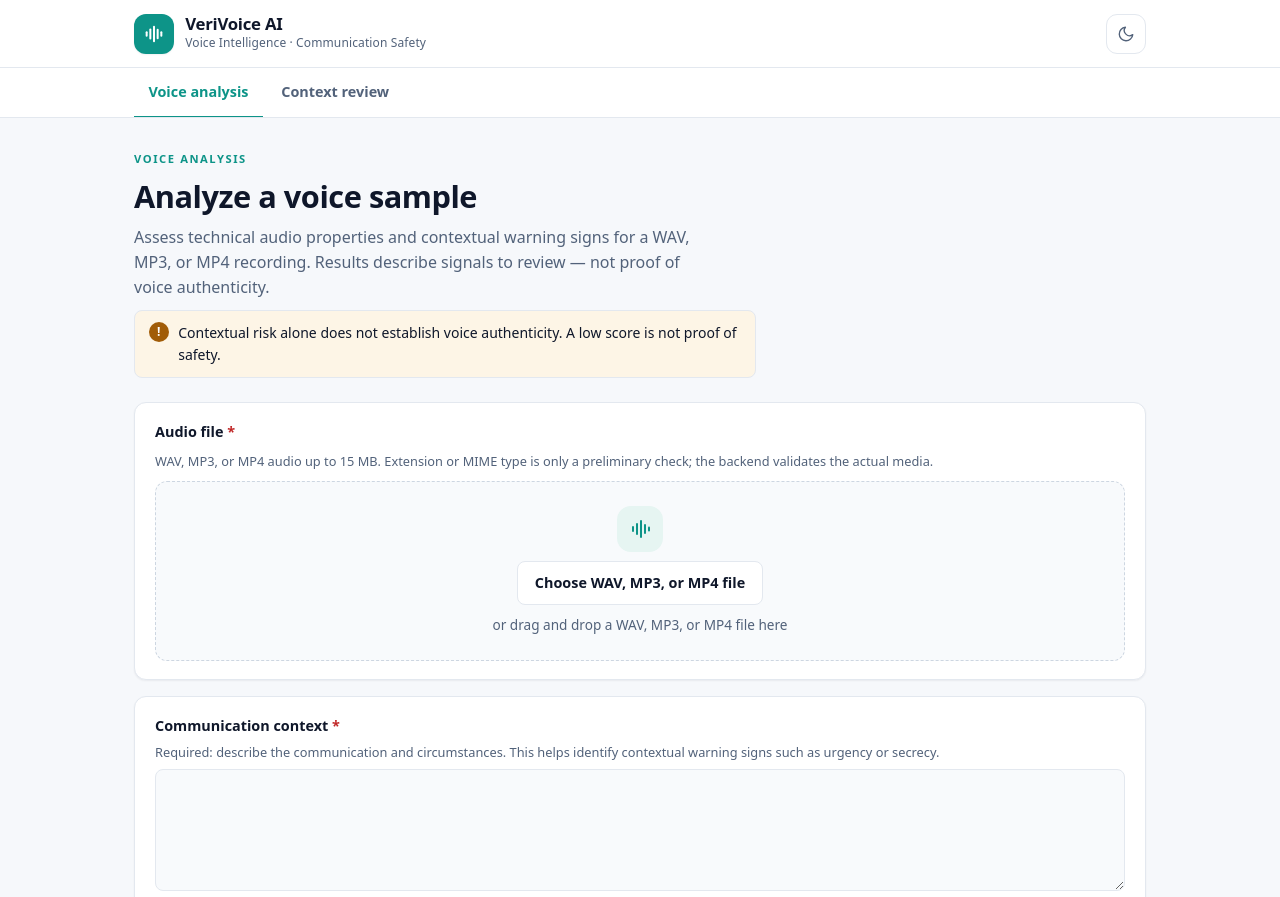
App component › shows validation error when audio is missing on submit
The width and height of the screenshot is (1280, 897).
Type "Urgent money request from CEO" into the text box labelled "Communication context *" at (640,830), box [155,769,1125,891]
(page scrolled)
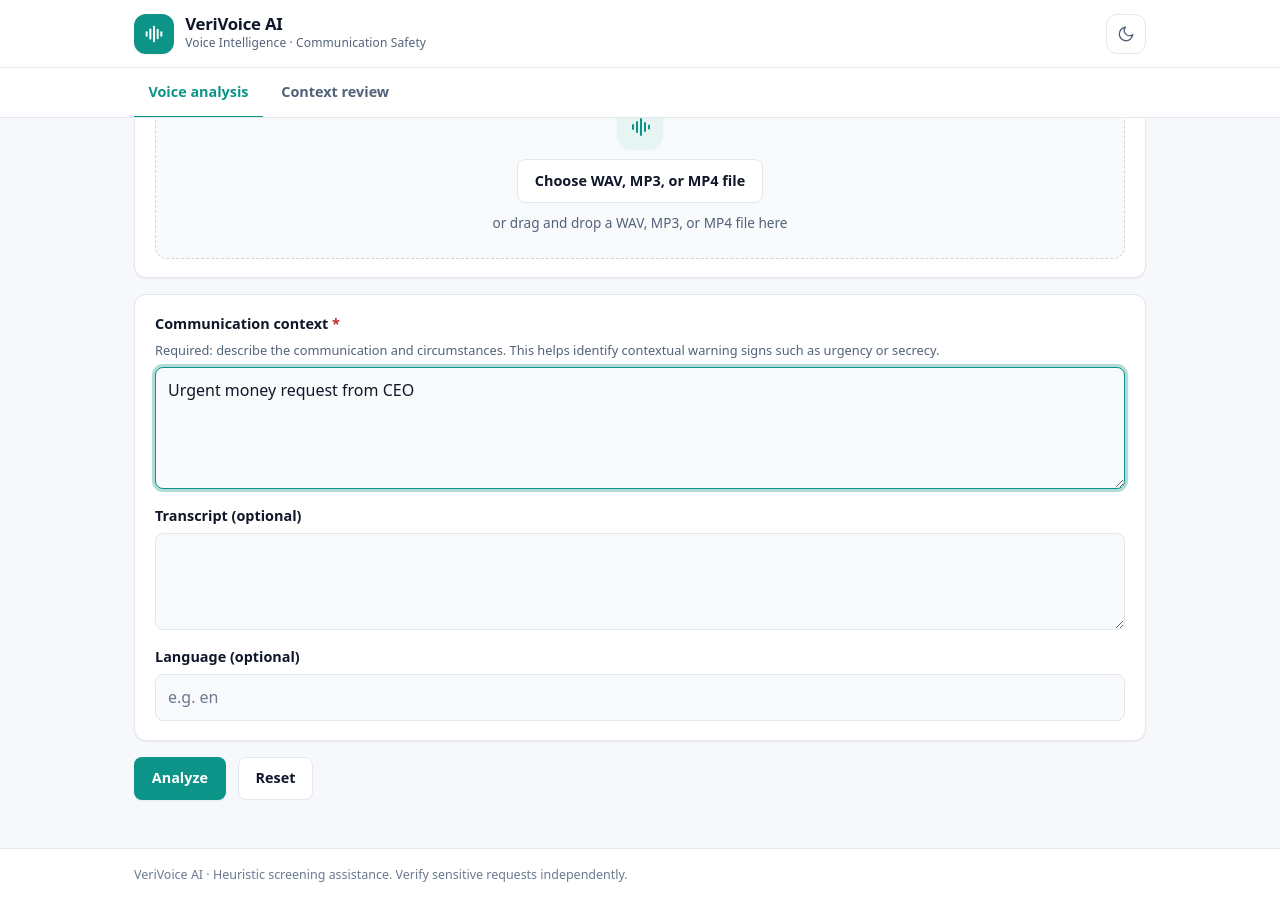
Click the button "Analyze" at (180,778), box [134,757,226,800]
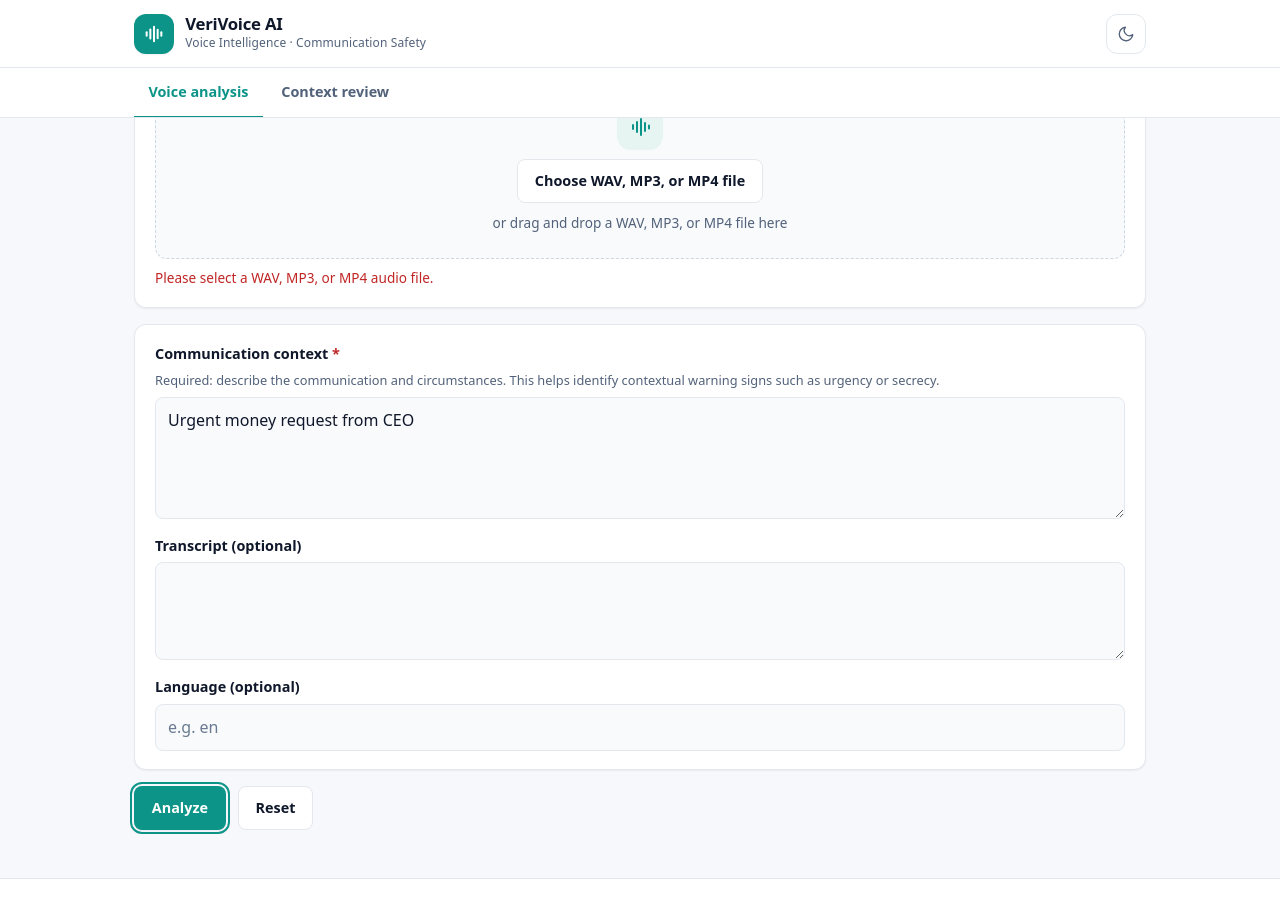
Check: the text "Please select a WAV, MP3, or MP4 audio file." is shown, box [155,268,434,287]
